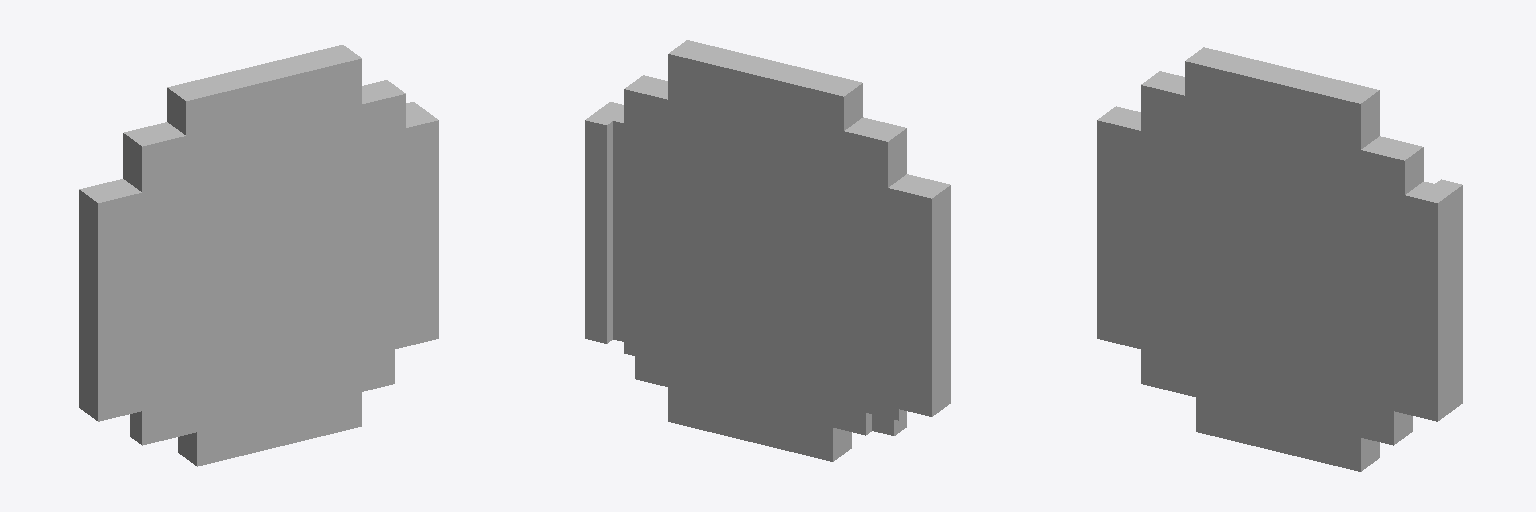
Rendered from cars.obj.
3 renders of one model, left to right at view 1: azimuth 30°, elevation 25°; view 2: azimuth 150°, elevation 25°; view 3: azimuth 330°, elevation 25°, orthographic.
Parts seen in each view (by area): view 1: object 1; view 2: object 1; view 3: object 1.
Part boxes in pixels (left/top/right/bottom): object 1: left=79, top=45, right=438, bottom=466; object 1: left=585, top=40, right=950, bottom=461; object 1: left=1097, top=47, right=1462, bottom=471.
Size of the model in its own units: 3.1 by 3.2 by 0.4.